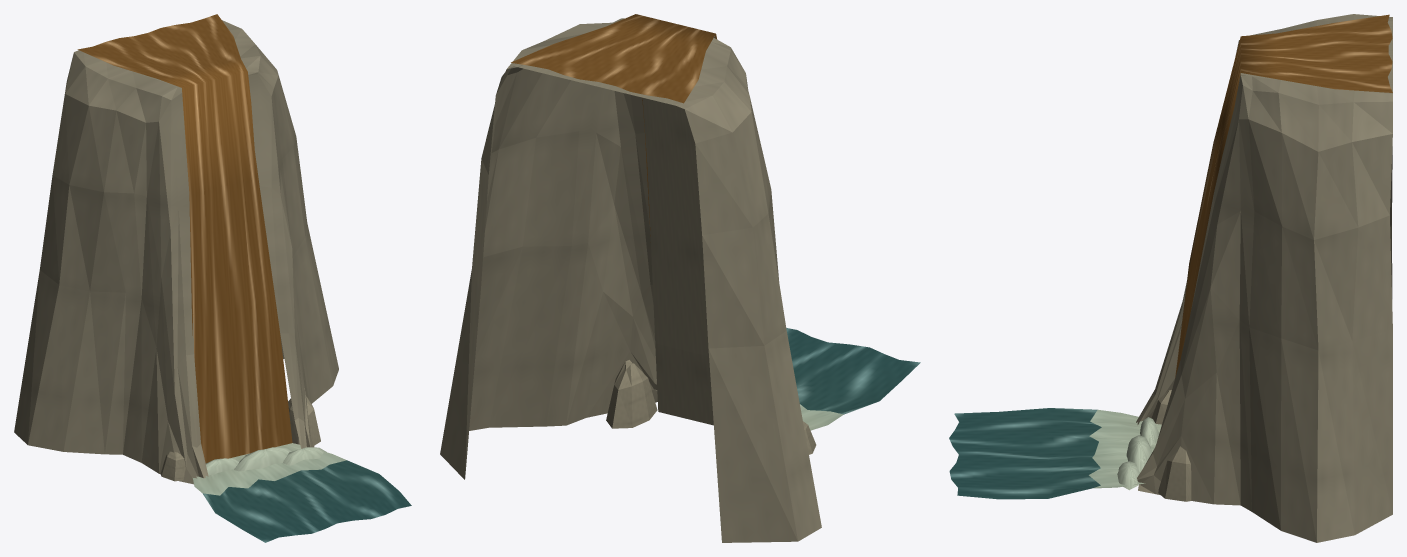
File: fall-hukou-lod1.glb
3 views of the same model, side by side, from view 1: azimuth 30°, elevation 25°; view 2: azimuth 150°, elevation 25°; view 3: azimuth 270°, elevation 25° (orthographic). The views are drawn at different scales.
Size of the model in its own units: 0.9132 by 0.999 by 0.9917.
Materials: 1 (1 with a texture image).
